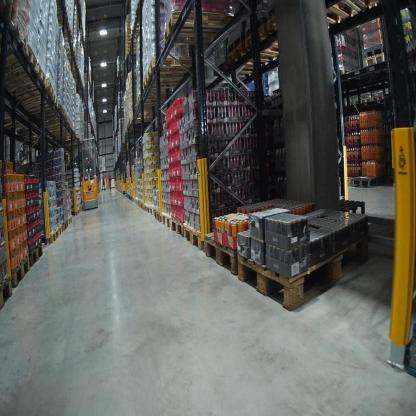pallet: (237, 223, 375, 319), (203, 223, 254, 279), (165, 15, 238, 50), (3, 42, 39, 87), (1, 16, 29, 67), (15, 77, 55, 107), (147, 59, 199, 82), (6, 62, 46, 91), (142, 72, 188, 93), (8, 253, 32, 290), (33, 103, 64, 129), (25, 93, 60, 116), (182, 223, 206, 254), (352, 172, 386, 192), (363, 50, 389, 74), (1, 275, 17, 313), (4, 111, 29, 134), (30, 243, 44, 271), (137, 92, 161, 108), (42, 226, 60, 244), (171, 216, 183, 239), (337, 174, 354, 189), (161, 211, 171, 230), (346, 99, 360, 109), (371, 94, 383, 104), (155, 206, 162, 222), (360, 96, 371, 106), (62, 219, 70, 231), (150, 205, 157, 217), (144, 202, 150, 214), (58, 222, 63, 236), (68, 215, 73, 225)
pallet_truck: (80, 134, 100, 214)
